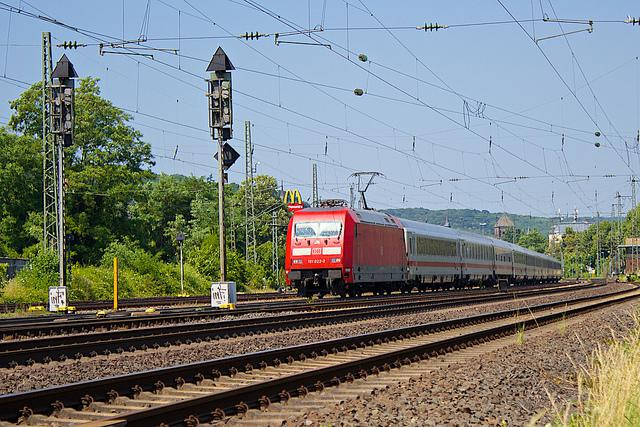Train: (286, 173, 565, 299)
